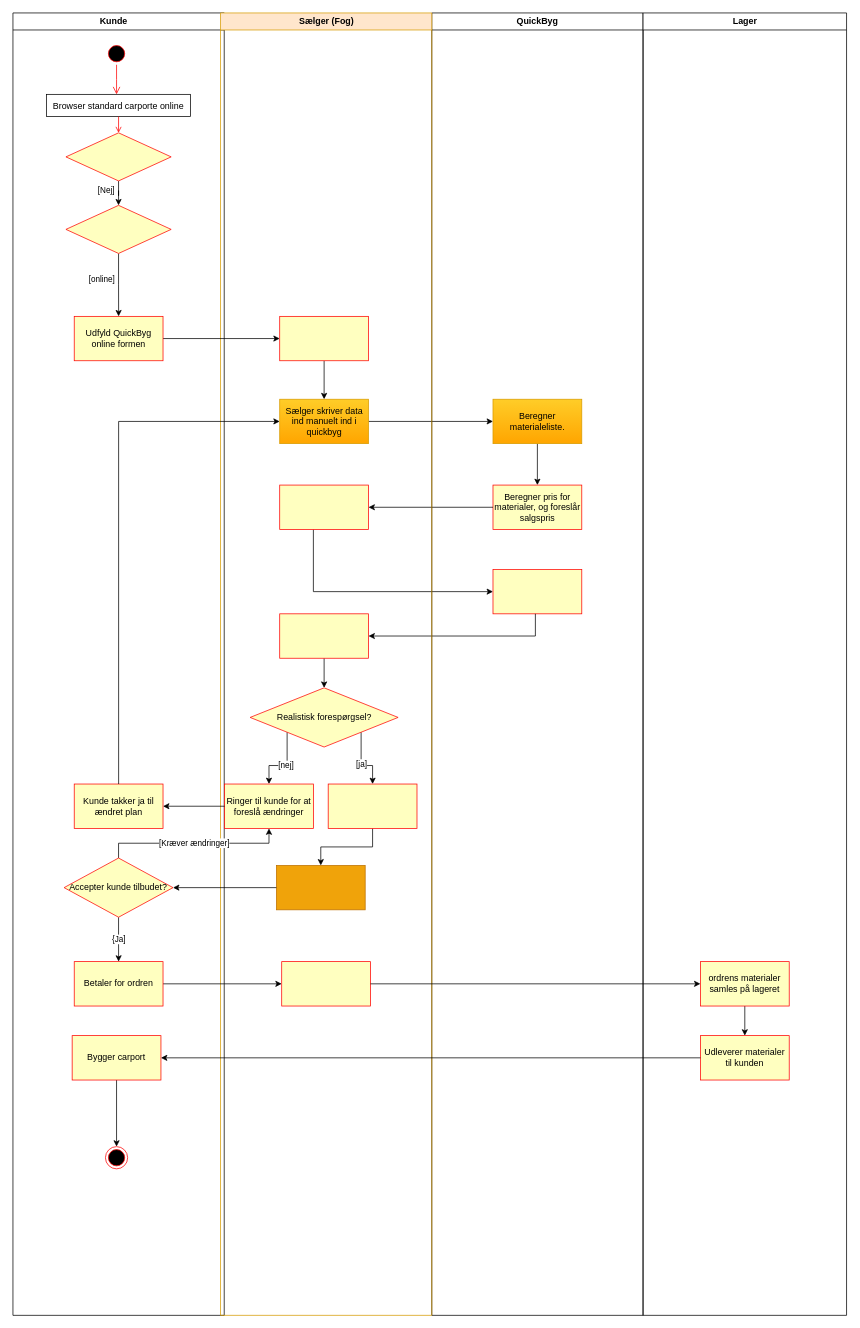
Some shapes in this 860 by 1328 pixel diagram are drawn without their labels. Here are the shapes that lost their labels. From the top down, the centre of each, then its label:
point (118, 156): Passer målene til behov?
point (118, 229): Online eller i butik?
point (324, 338): E-mail med forespørgsel sendes til Fog Sælger
point (324, 506): Sætter endelig salgspris.
point (537, 591): Tegner en plantegning.
point (324, 635): Reviewer forespørgsel, tegning og pris.
point (372, 805): Sender email med tilbud (Uden materialeliste!)
point (320, 887): Ringer til kunde og følger op
point (326, 983): Skriver ordre materialer ind i M3 system
